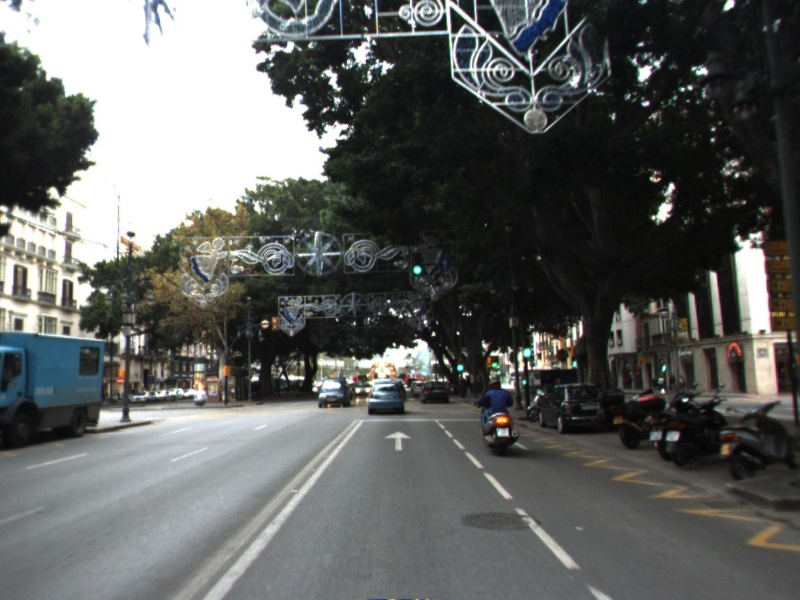STRAIGHT: (383, 429, 414, 453)
